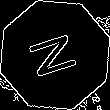N_E: (25, 28, 85, 82)
